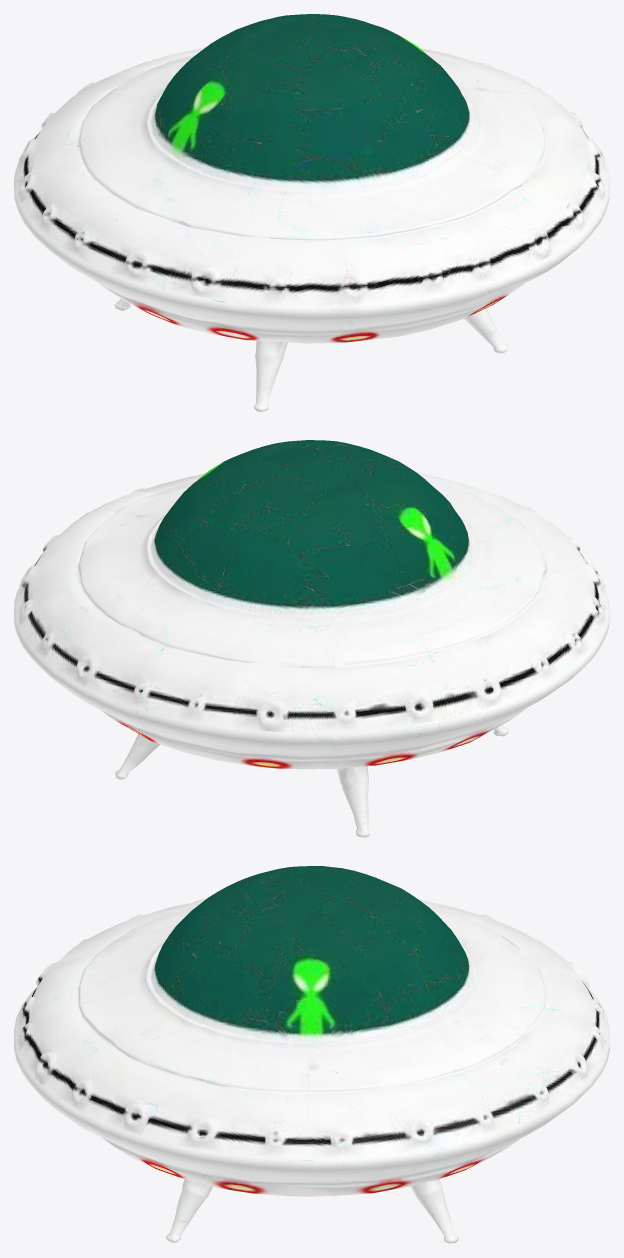
Rendered from ufo.glb.
3 views of the same model, one above another, from view 1: azimuth 30°, elevation 25°; view 2: azimuth 150°, elevation 25°; view 3: azimuth 270°, elevation 25° (orthographic).
Bounding box in the file's own units: 1.9 × 1.04 × 1.9.
1 material, 1 textured.
